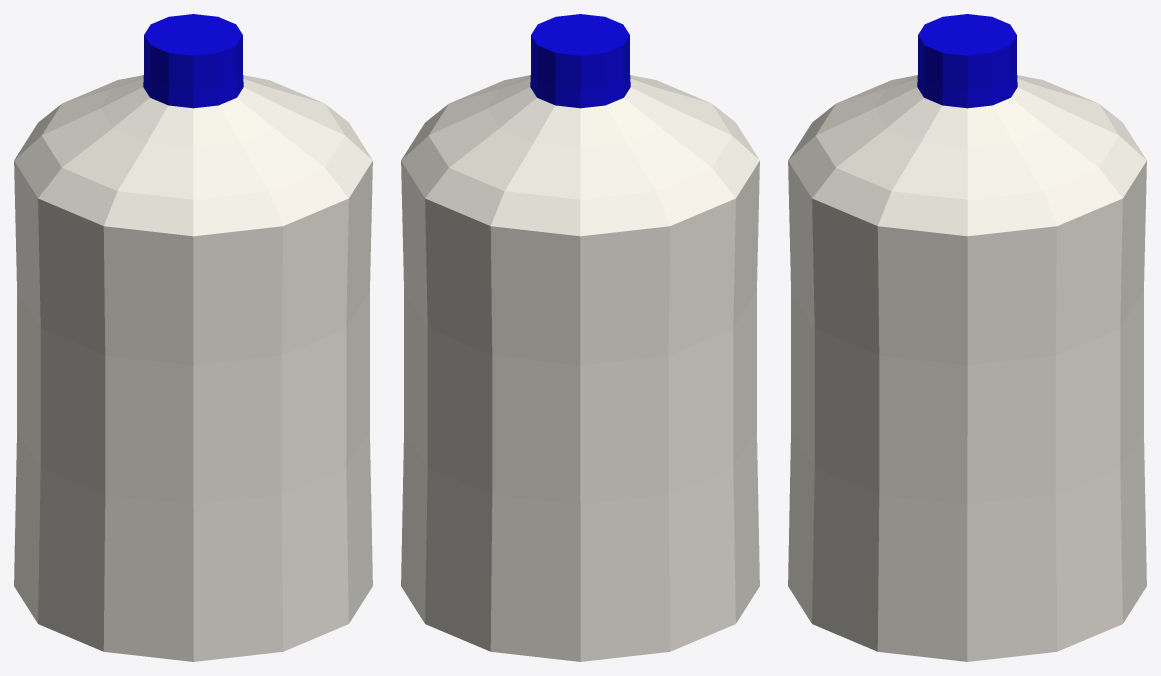
File: BottleLiquid.fbx
3 views of the same model, side by side, from view 1: azimuth 30°, elevation 25°; view 2: azimuth 150°, elevation 25°; view 3: azimuth 270°, elevation 25° (orthographic).
Parts seen in each view (by area): view 1: Bottle; view 2: Bottle; view 3: Bottle.
Boxes of the visible parts, x1,y1,x2,y2 form: Bottle: [14, 14, 372, 661]; Bottle: [401, 14, 759, 661]; Bottle: [788, 14, 1146, 661].
Bounding box in the file's own units: 200 × 339 × 200.
